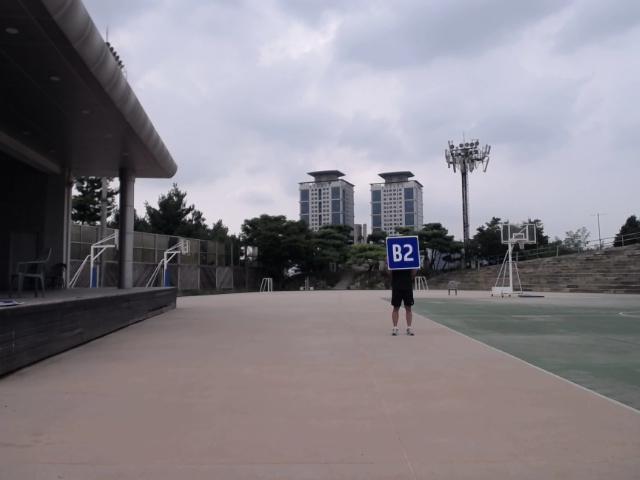delivery_b2: (385, 235, 420, 271)
